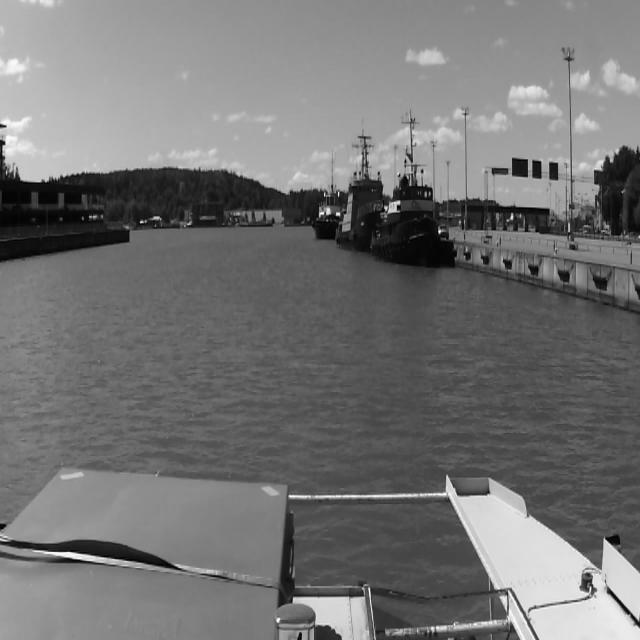ship: (373, 107, 443, 266), (337, 135, 373, 250), (313, 149, 336, 242)
